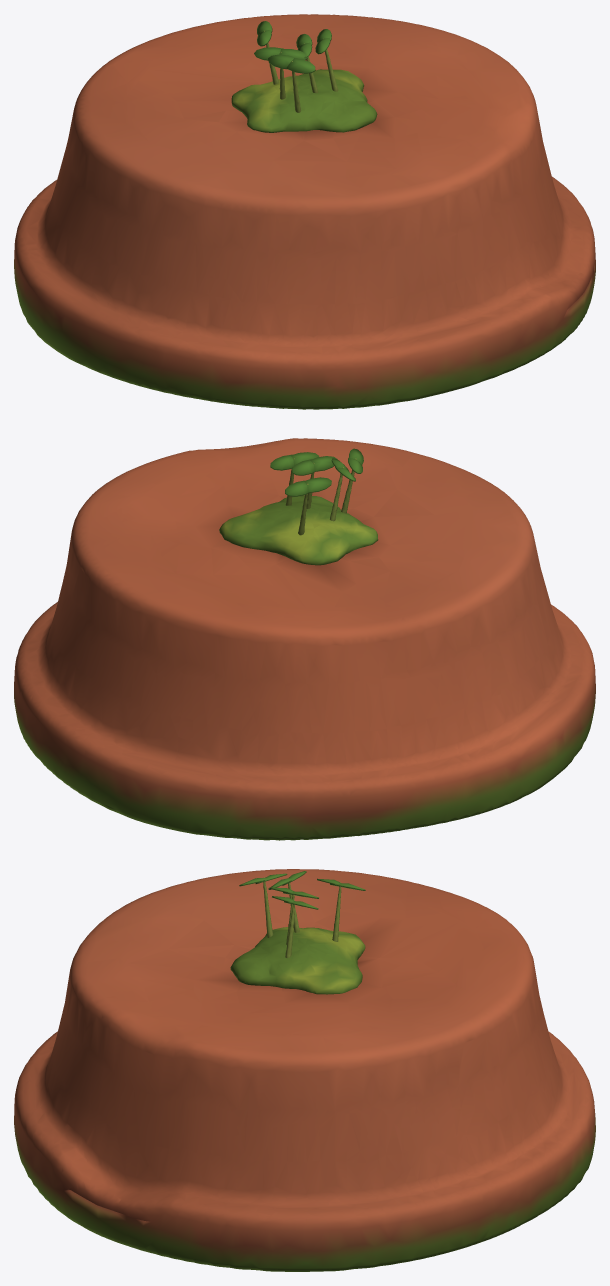
Rendered from mire_flowerpot.glb.
3 renders of one model, top to bottom at view 1: azimuth 30°, elevation 25°; view 2: azimuth 150°, elevation 25°; view 3: azimuth 270°, elevation 25°, orthographic.
Parts seen in each view (by area): view 1: mire_flowerpot; view 2: mire_flowerpot; view 3: mire_flowerpot.
Boxes of the visible parts, left/top/right/bottom form: mire_flowerpot: left=14, top=14, right=595, bottom=409; mire_flowerpot: left=14, top=438, right=595, bottom=840; mire_flowerpot: left=14, top=869, right=595, bottom=1271.
Bounding box in the file's own units: 21.37 × 10.49 × 21.05.
